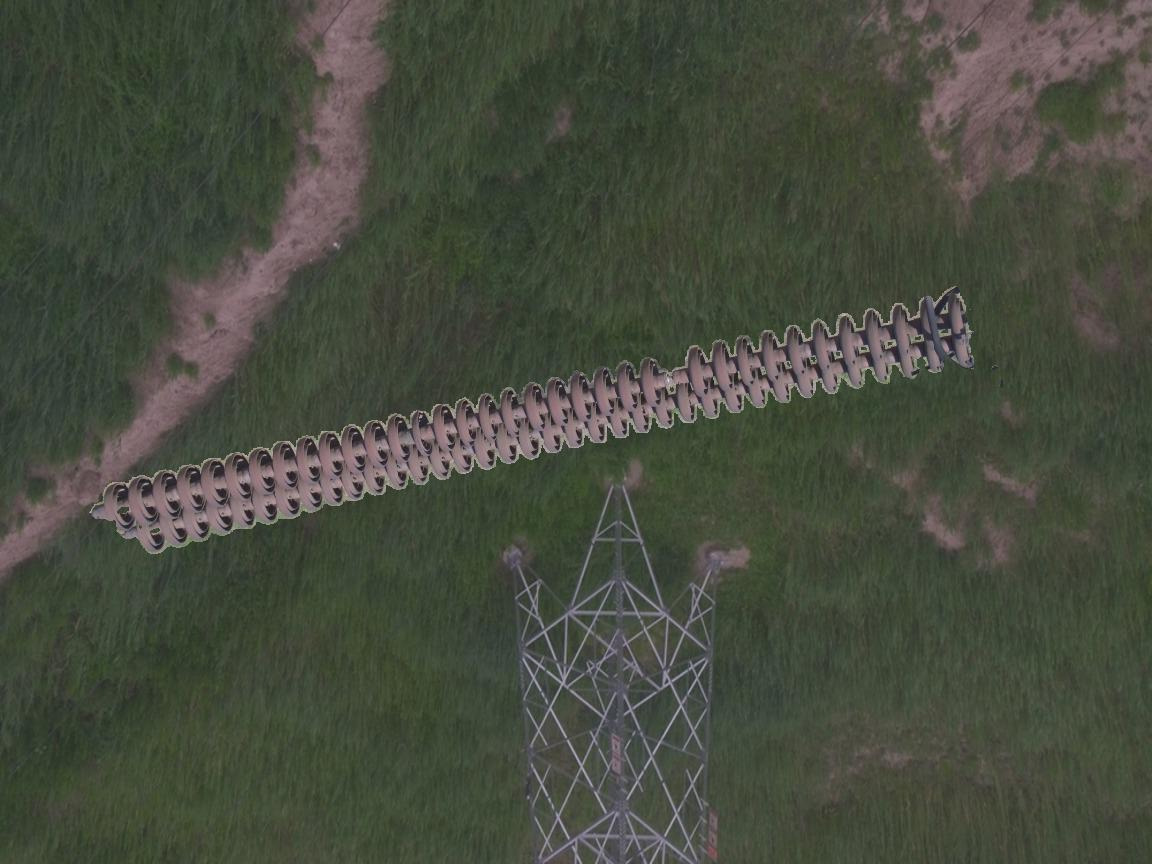insulator: (95, 282, 979, 561)
insulator_stringdrop: (636, 342, 714, 409)
